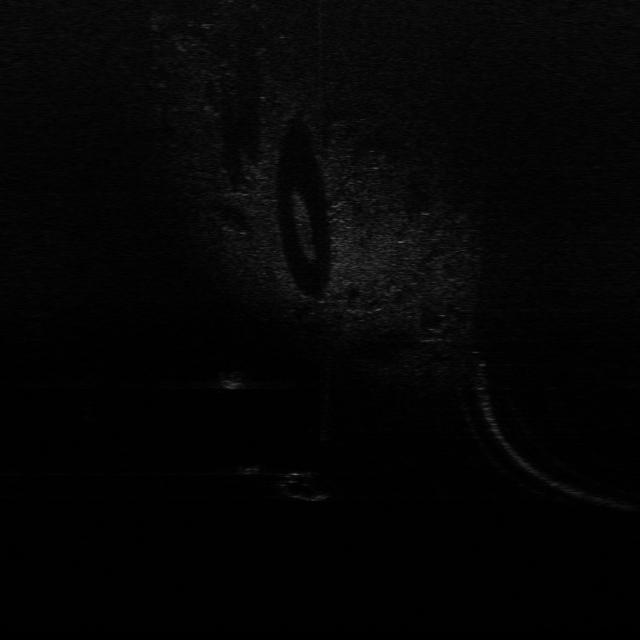cube: (230, 462, 264, 475)
square cage: (214, 370, 250, 390)
tyre: (274, 469, 336, 503)
